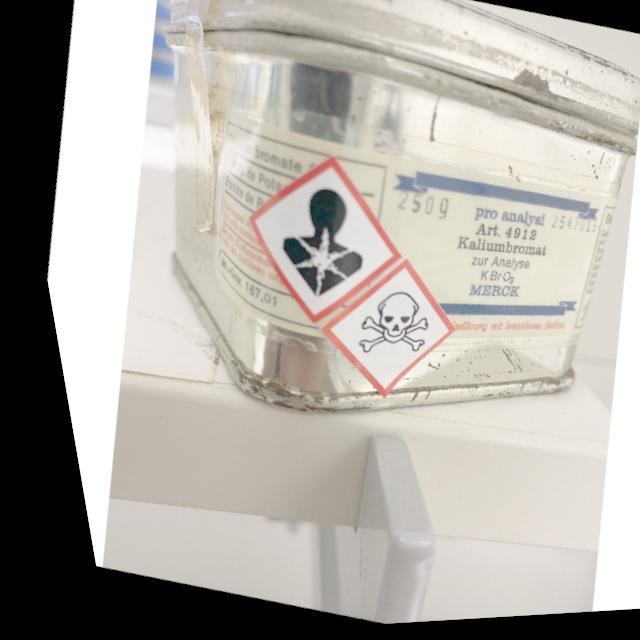acute toxicity: (334, 282, 429, 372)
serious health hazard: (251, 179, 376, 311)
